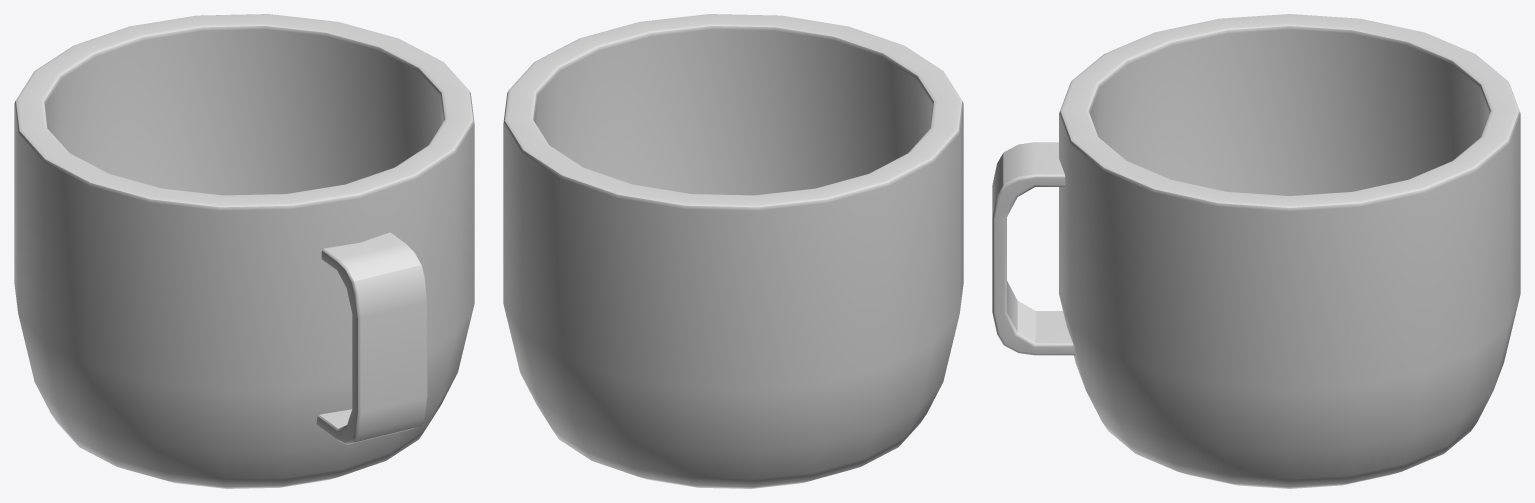
The model's file is cup.fbx.
3 views of the same model, side by side, from view 1: azimuth 30°, elevation 25°; view 2: azimuth 150°, elevation 25°; view 3: azimuth 270°, elevation 25° (orthographic).
Visible parts, largest first — view 1: polySurface859; view 2: polySurface859; view 3: polySurface859.
Part boxes in pixels (x1,y1,x2,y2): polySurface859: (14,14,474,488); polySurface859: (503,14,963,488); polySurface859: (992,14,1520,488).
Bounding box in the file's own units: 9.84 × 7.23 × 11.26.
